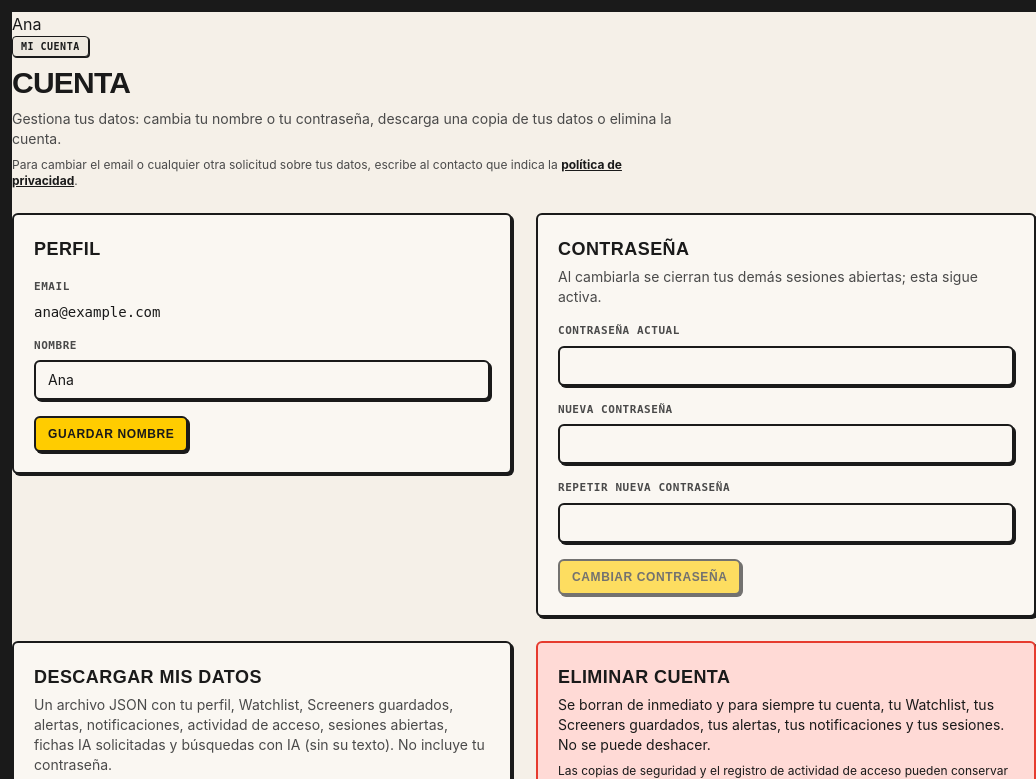
Test: shows the error for a wrong current password
In the password field labelled "Contraseña actual": [786, 366] box [558,346,1014,386], type "wrong"
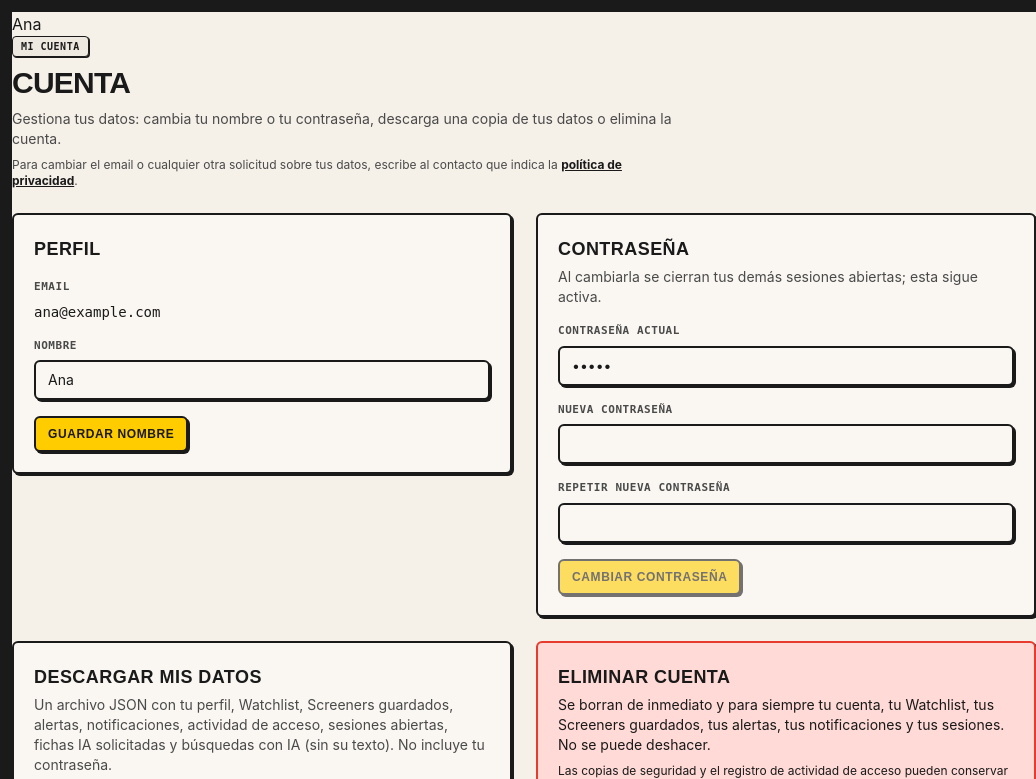
In the password field labelled "Nueva contraseña": [786, 444] box [558,424,1014,464], type "brand-new-password"
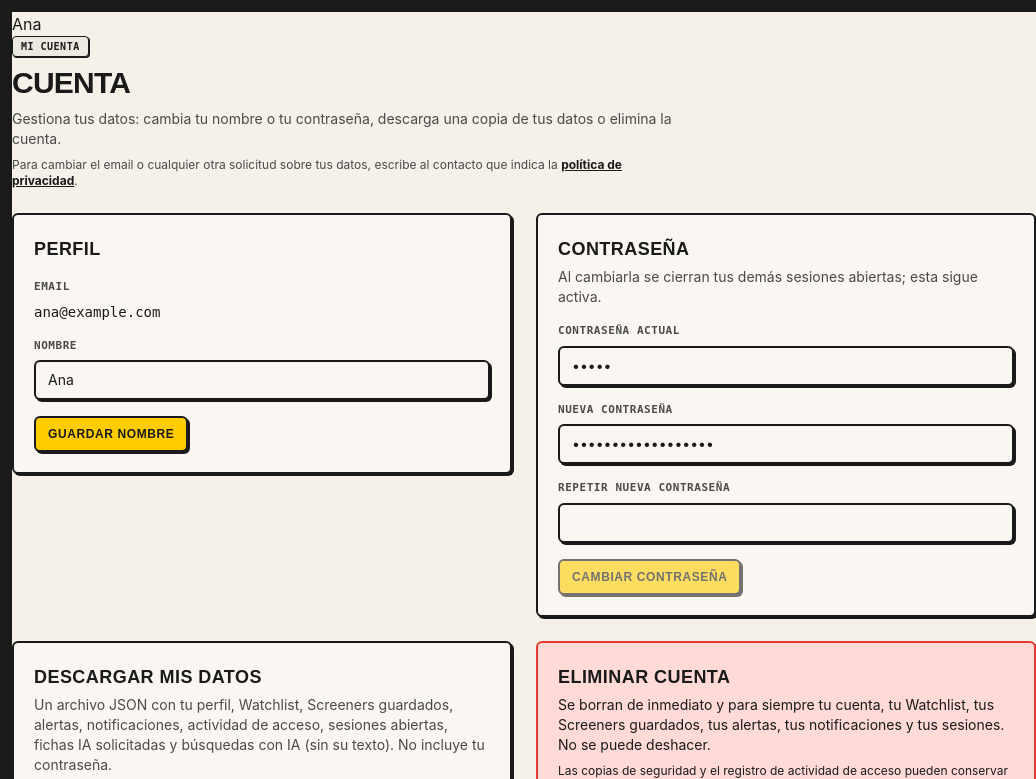
In the password field labelled "Repetir nueva contraseña": [786, 522] box [558,502,1014,542], type "brand-new-password"
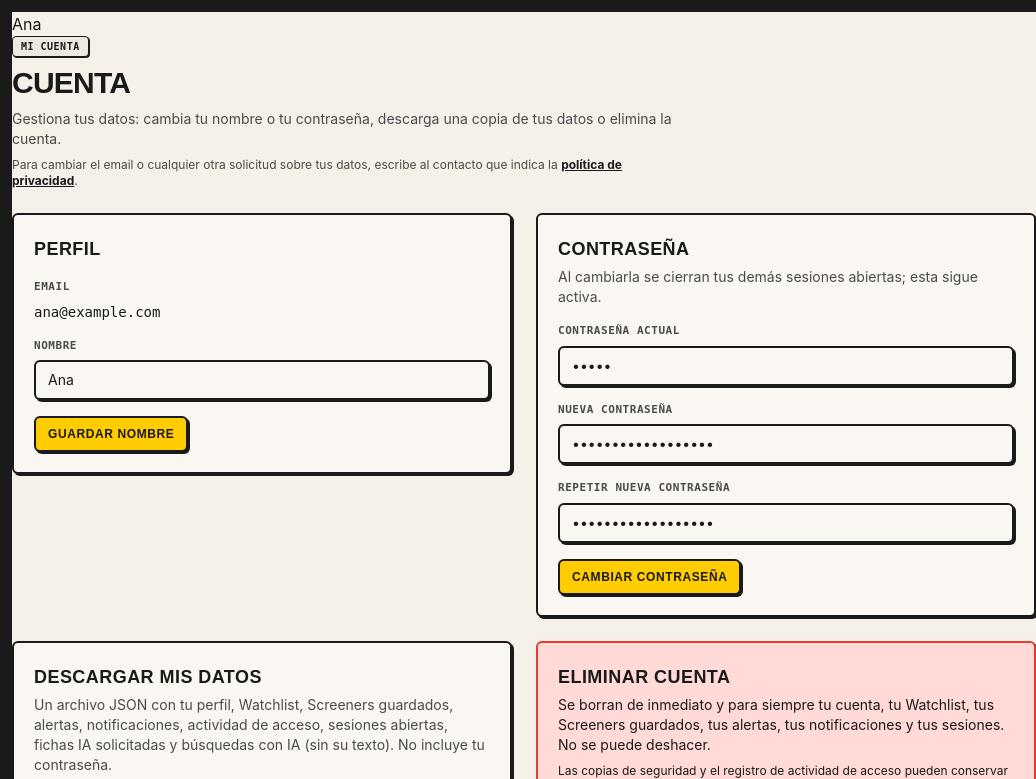
Click the button "Cambiar contraseña": [650, 576] box [558,558,742,594]
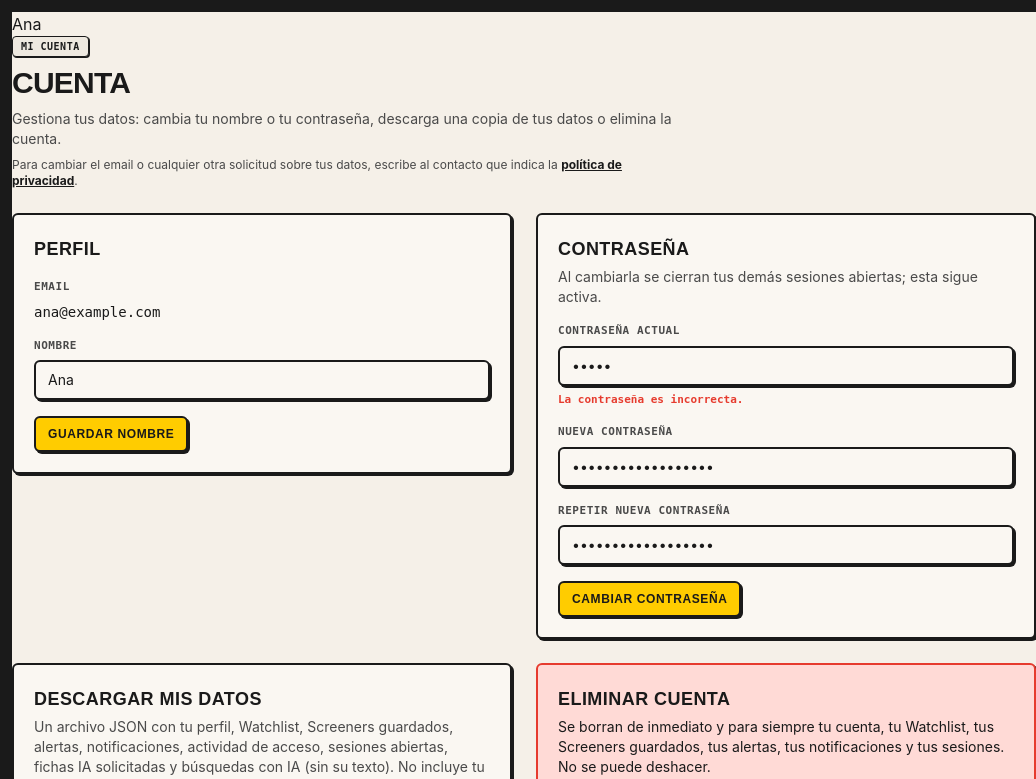
Expected: the text "La contraseña es incorrecta." is shown, [558,392,743,406]
